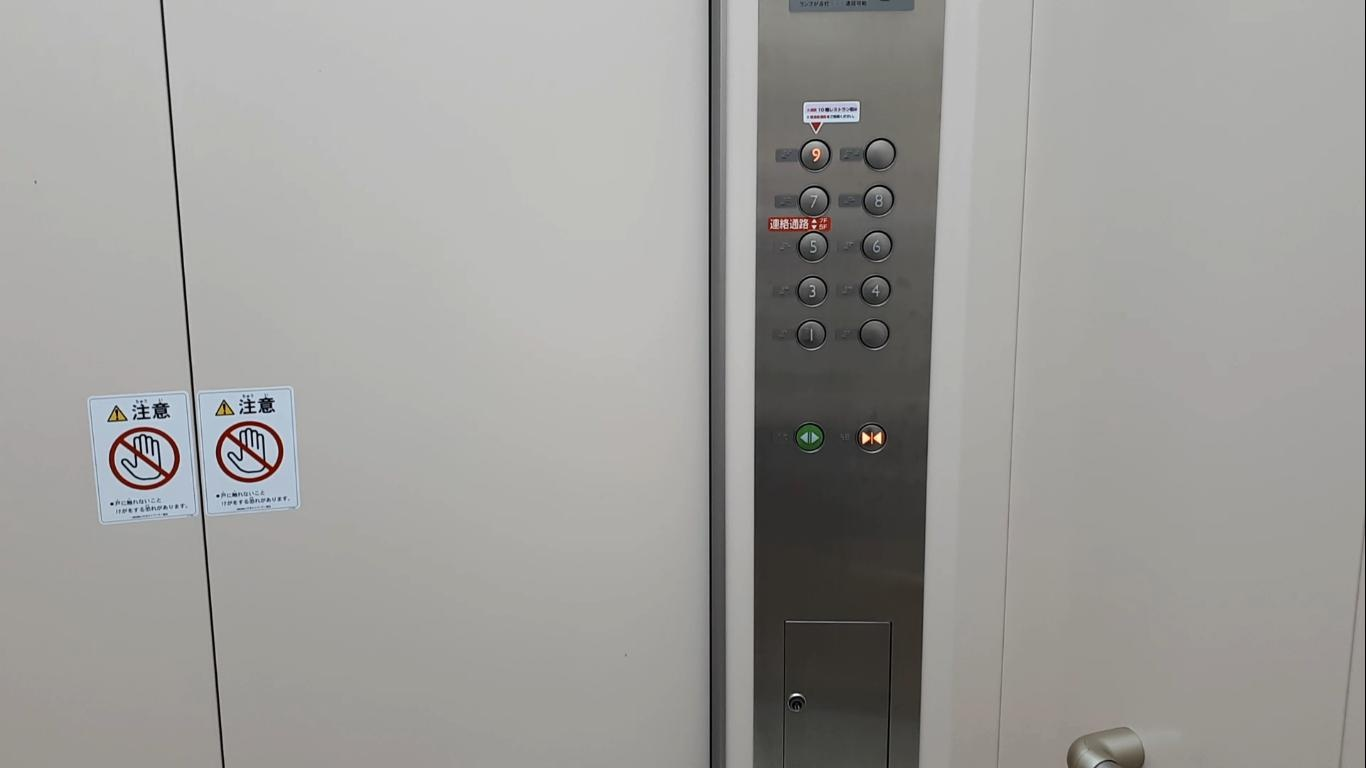1: (795, 318, 827, 352)
3: (795, 274, 829, 307)
4: (858, 273, 891, 307)
5: (797, 231, 831, 263)
6: (861, 228, 893, 263)
7: (797, 184, 832, 217)
8: (861, 182, 895, 217)
9: (799, 138, 831, 172)
close: (856, 422, 887, 454)
empty: (863, 136, 898, 172), (857, 318, 891, 350)
open: (793, 421, 827, 454)
